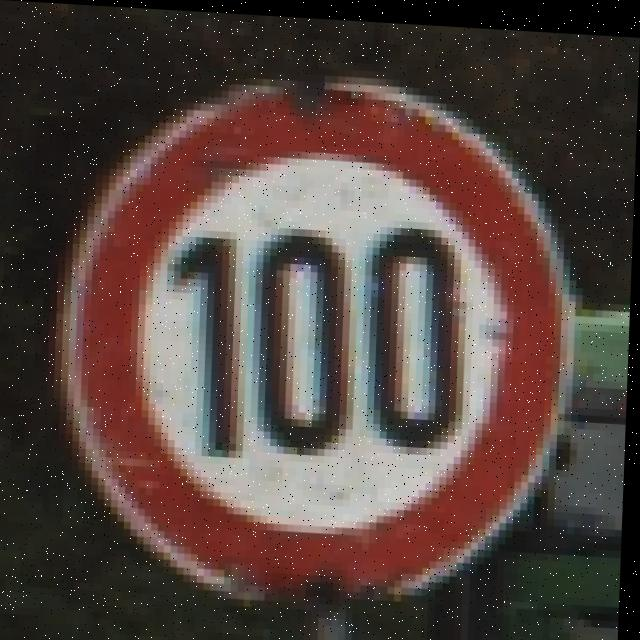speed_limit_100: (82, 79, 581, 606)
